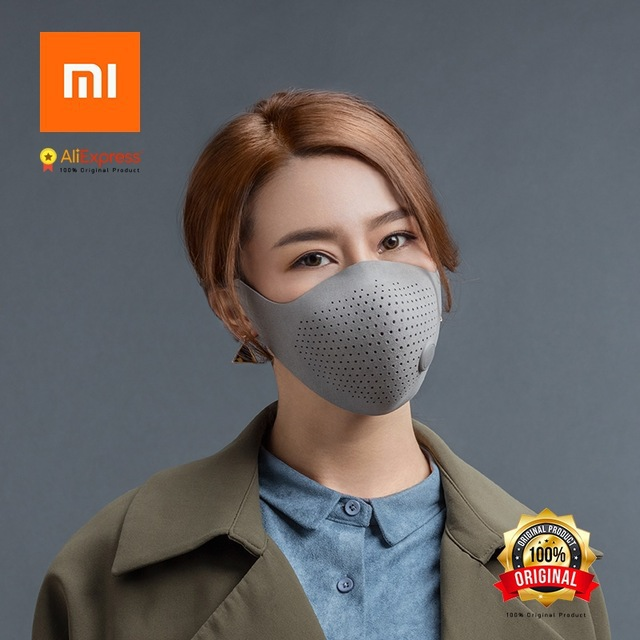mask: (291, 282, 445, 397)
